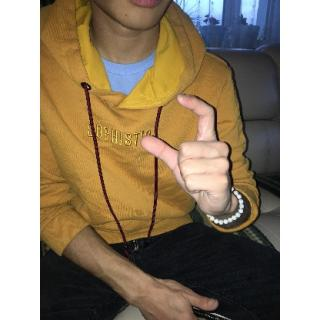DELL: (143, 91, 236, 223)
